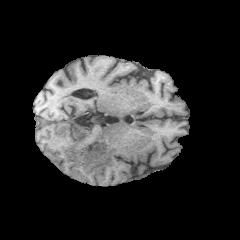glioma: (61, 125, 116, 174)
